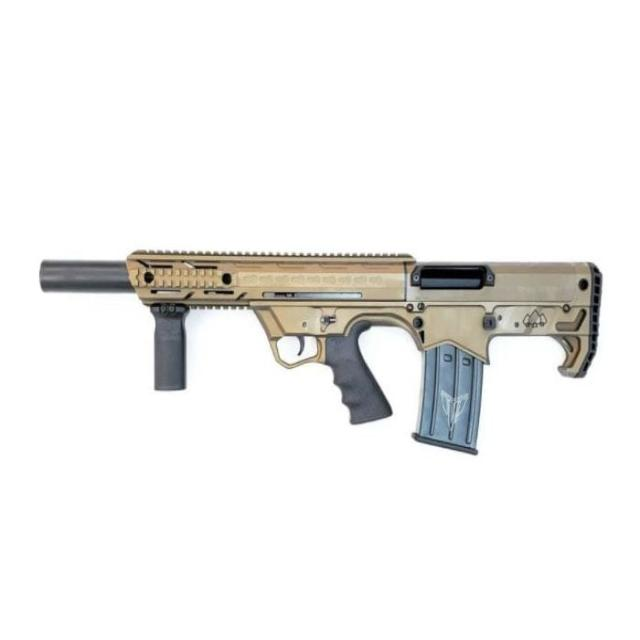ShotGun: (38, 249, 604, 457)
